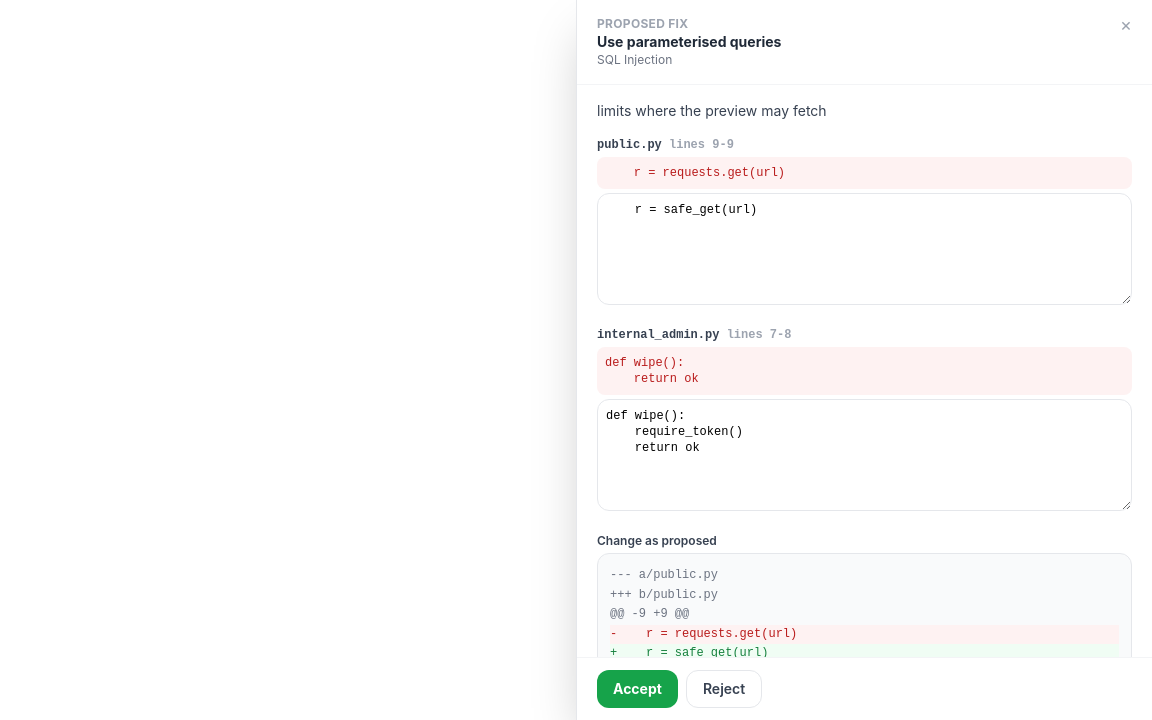
Remediate button and fix review panel (B-053, B-056) › keeps the panel open and shows the reason when recording a decision fails
The width and height of the screenshot is (1152, 720).
Click the button "Accept" at (637, 689), box [597,670,678,708]
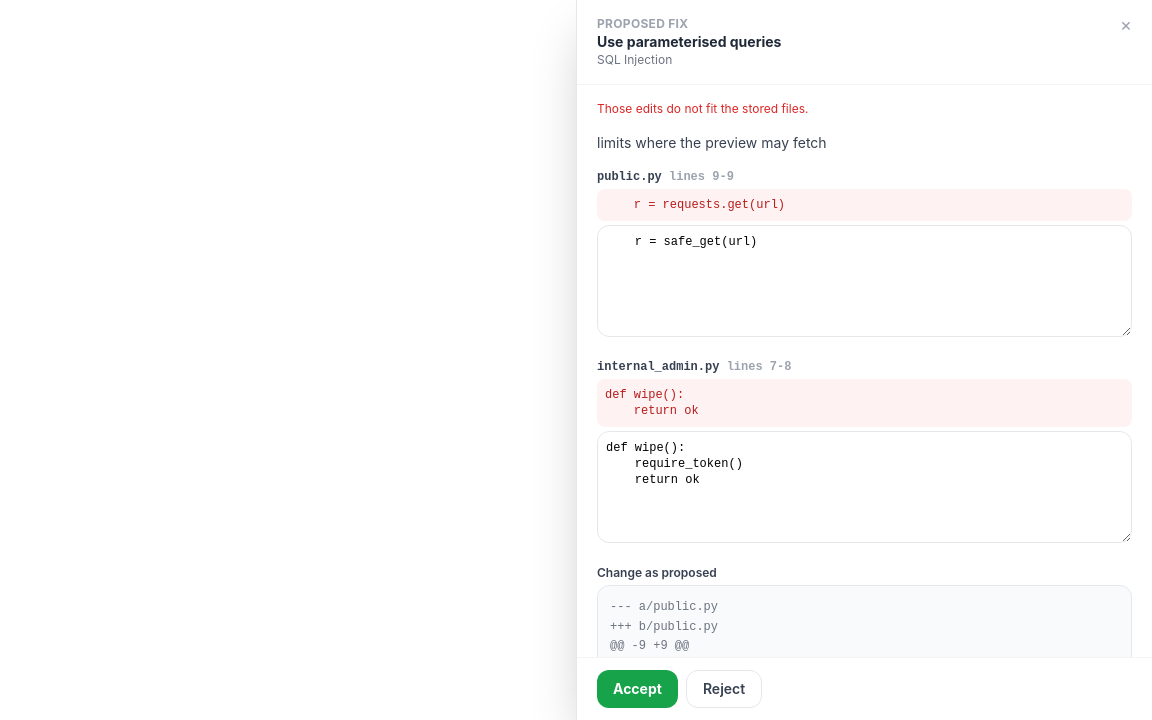
Expected: the message shows "do not fit", [597,101,808,116]
